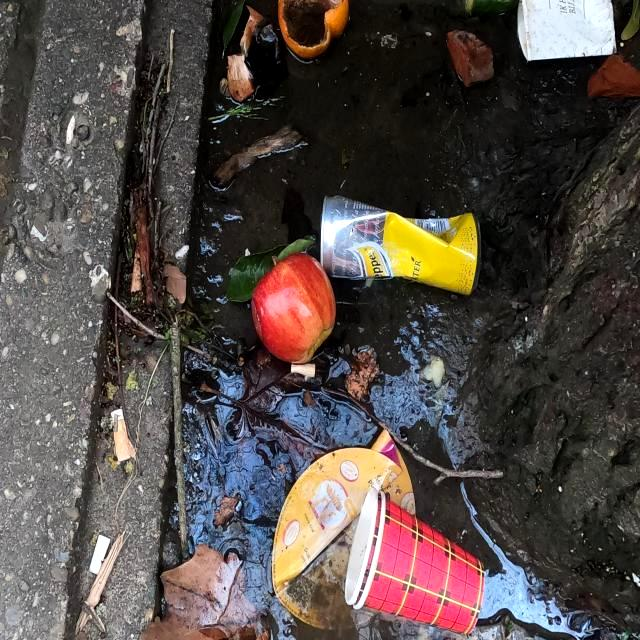Coffee Cup: (344, 488, 486, 634)
Metal: (320, 193, 482, 297)
